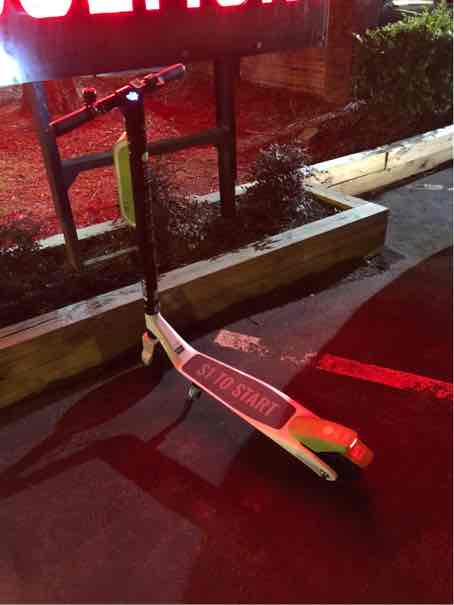scooter: (47, 52, 376, 492)
